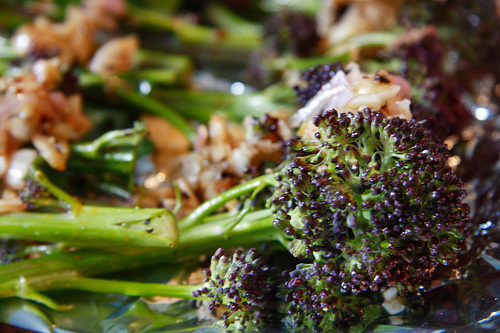broccoli: (274, 109, 474, 292)
